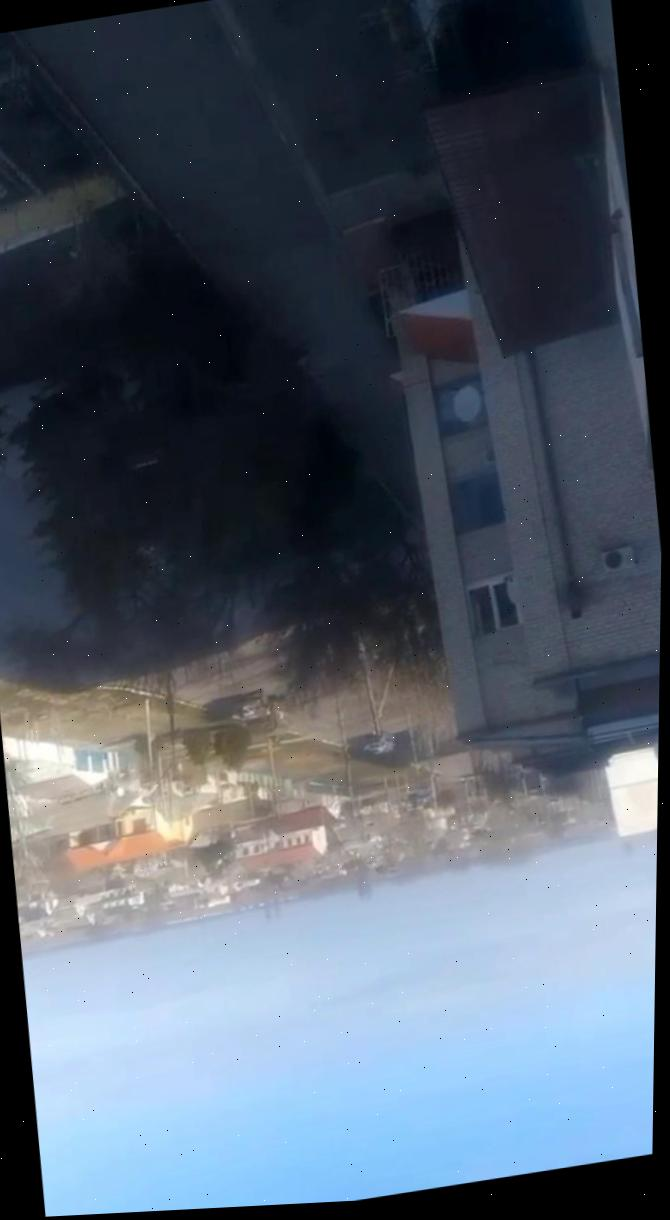truck: (226, 681, 297, 742)
